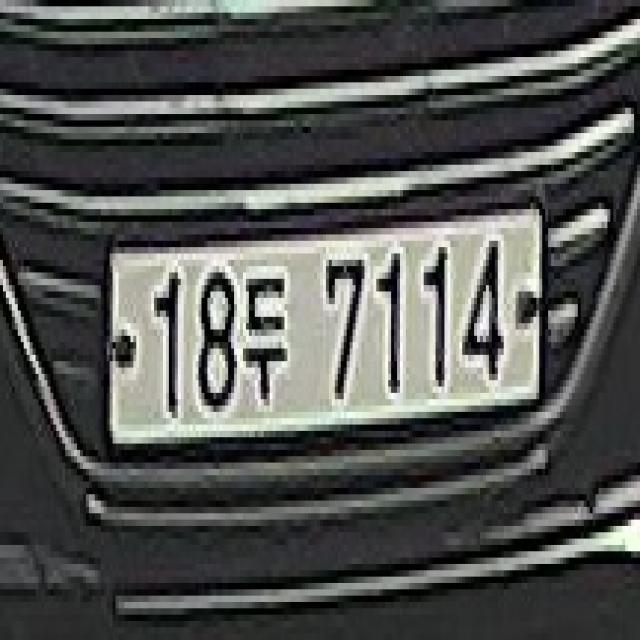1: (409, 241, 456, 412), (145, 260, 190, 437), (367, 241, 409, 418)
4: (459, 222, 516, 393)
7: (317, 241, 367, 418)
8: (193, 260, 240, 431)
du: (240, 266, 293, 431)
license_plate: (98, 190, 551, 488)
